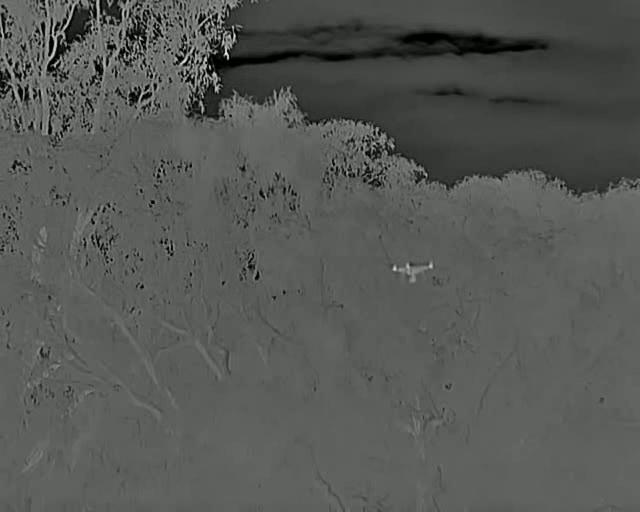DJI-Phantom: (390, 254, 435, 290)
